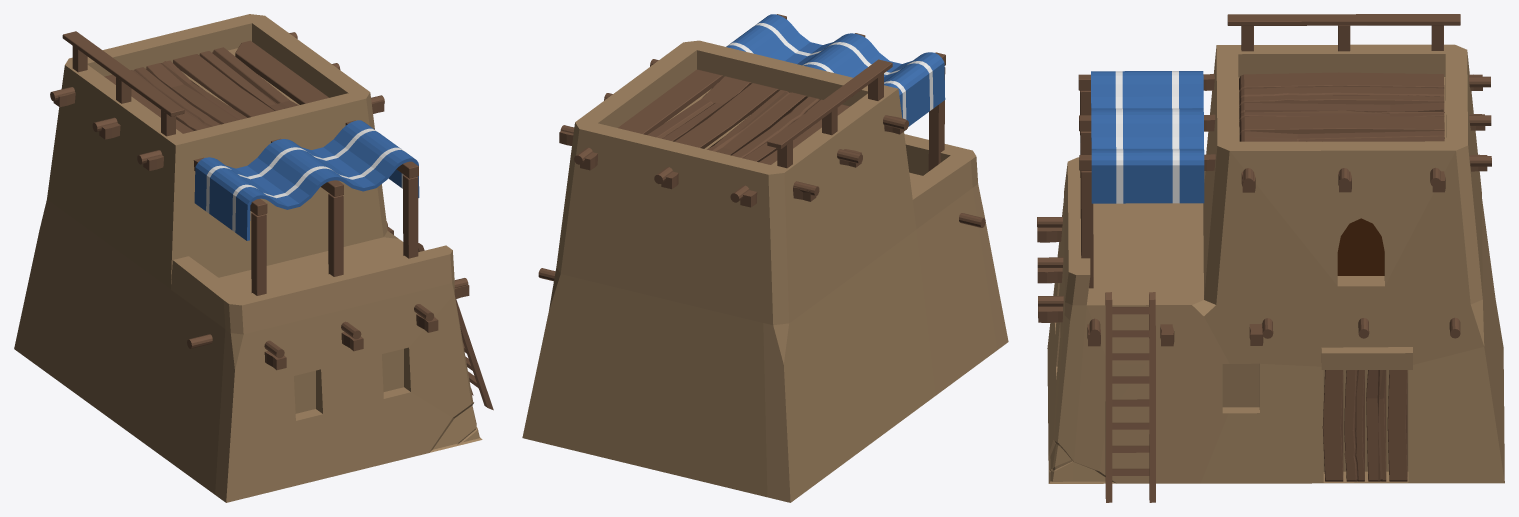
The model's file is Bangunan1biru.fbx.
3 renders of one model, left to right at view 1: azimuth 30°, elevation 25°; view 2: azimuth 150°, elevation 25°; view 3: azimuth 270°, elevation 25°, orthographic. The views are drawn at different scales.
Parts seen in each view (by area): view 1: main.001; view 2: main.001; view 3: main.001.
Part boxes in pixels (x1,y1,x2,y2): main.001: [14, 14, 493, 502]; main.001: [522, 14, 1008, 502]; main.001: [1037, 14, 1504, 502].
Bounding box in the file's own units: 300 × 307 × 373.
